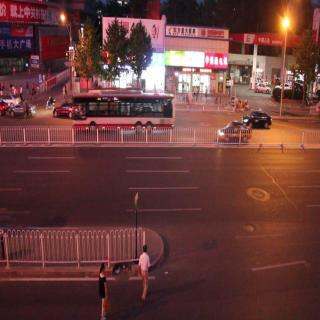BigCar: (70, 88, 178, 147)
Car: (216, 112, 257, 148), (243, 100, 273, 134), (6, 97, 35, 130), (54, 94, 84, 122), (4, 88, 19, 114)
